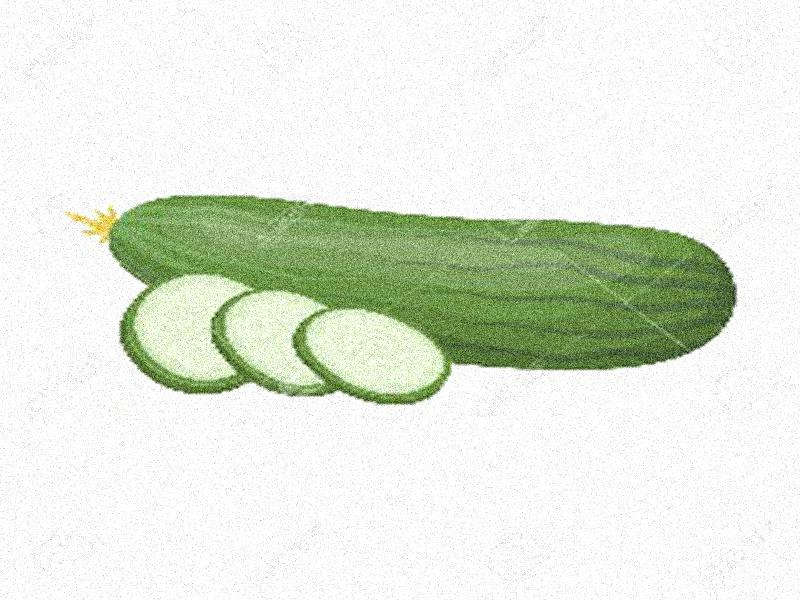Cucumber: (70, 196, 740, 370)
